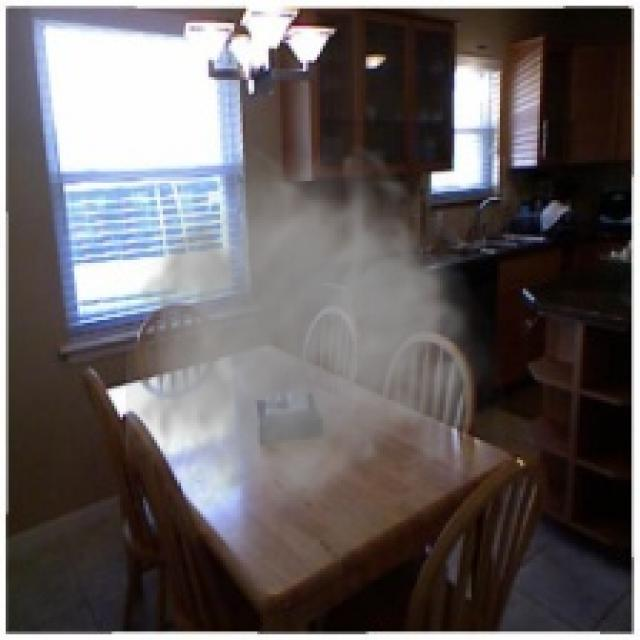Smoke: (126, 140, 508, 523)
